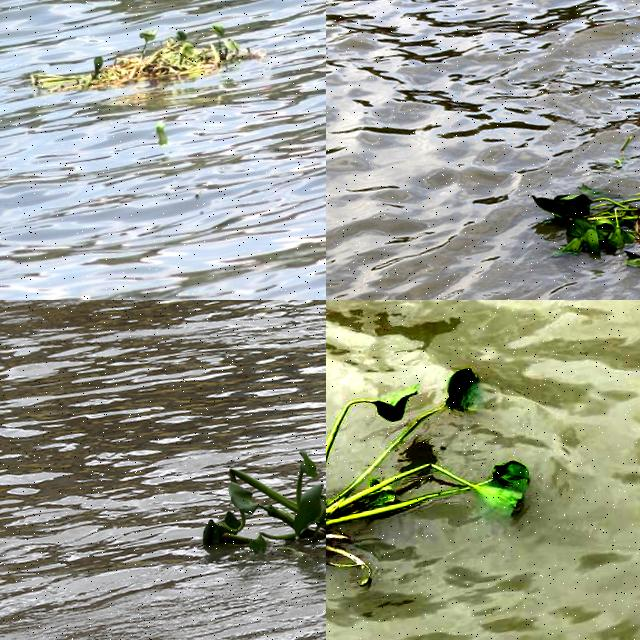water-hyacinth: (327, 351, 547, 597), (183, 406, 327, 598), (9, 22, 263, 111), (529, 160, 640, 280)
